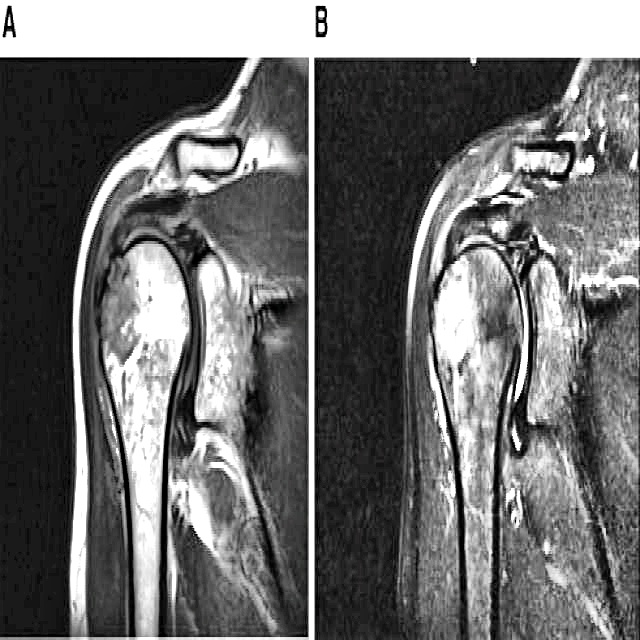Comminuted: (433, 255, 473, 372), (94, 236, 129, 348)
